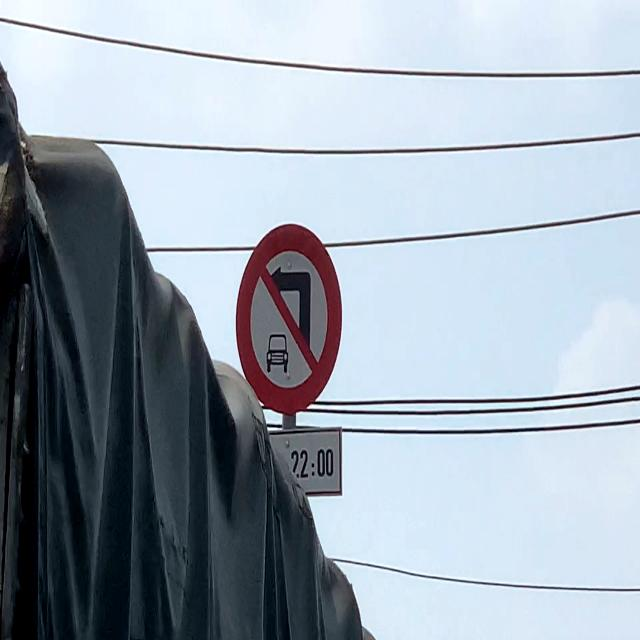P.103c: (235, 223, 344, 417)
